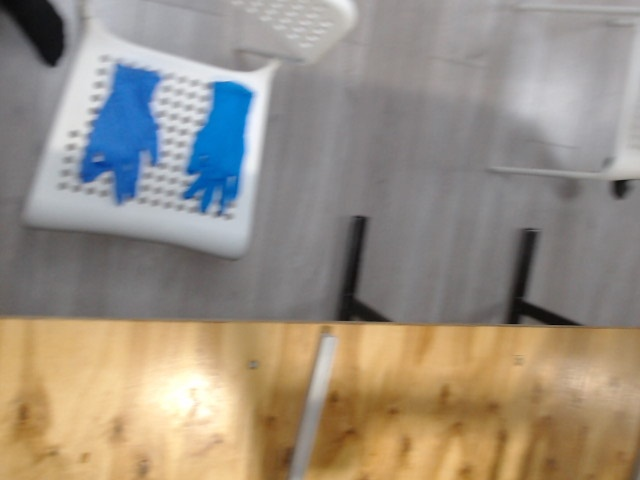medical_glove: (82, 65, 163, 198), (185, 81, 252, 212)
